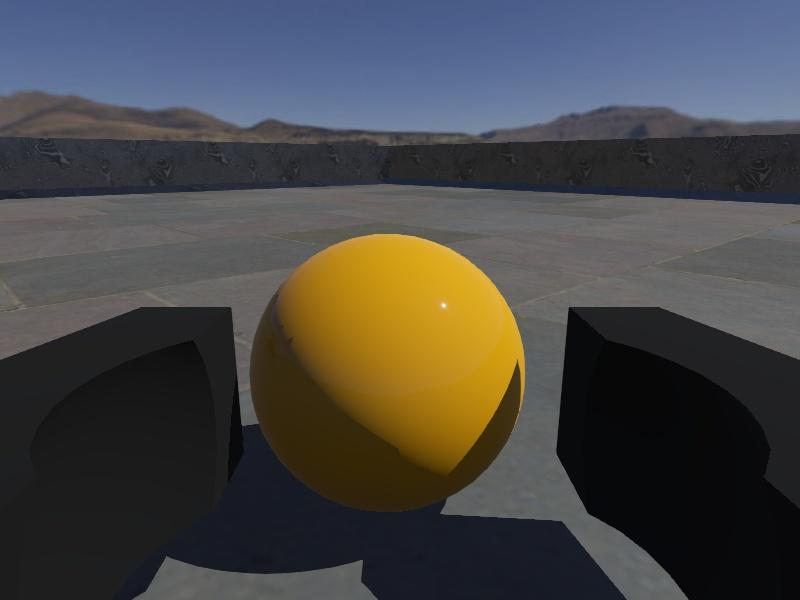orange ball: (248, 232, 527, 515)
